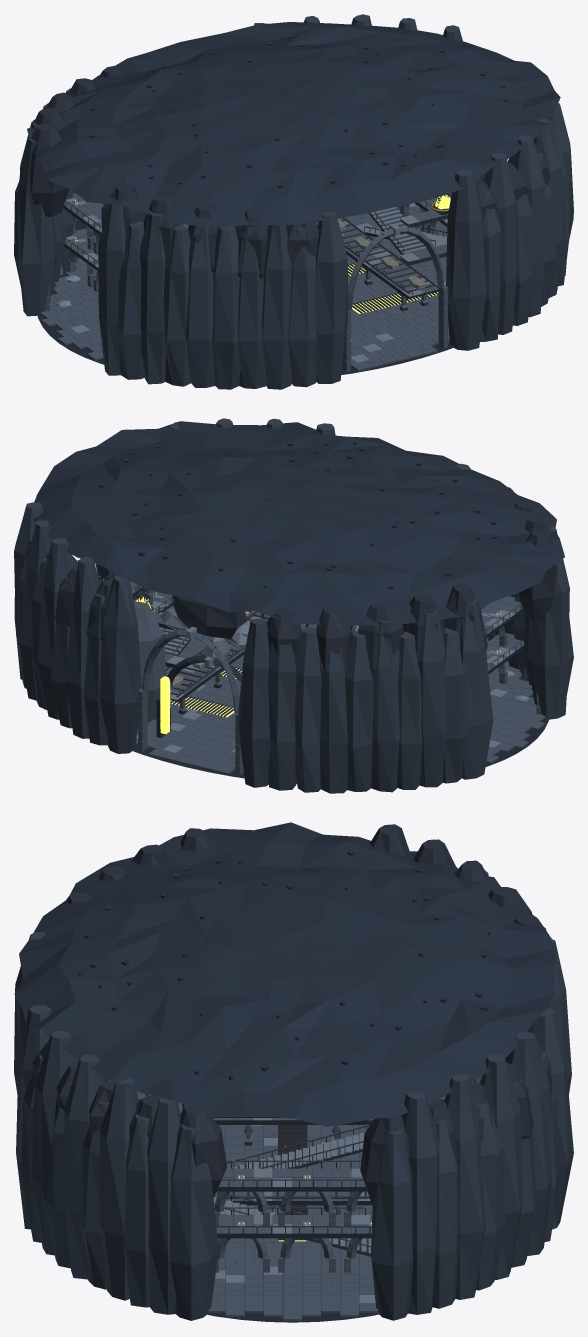
File: cellar-room-04.glb
3 renders of one model, top to bottom at view 1: azimuth 30°, elevation 25°; view 2: azimuth 150°, elevation 25°; view 3: azimuth 270°, elevation 25°, orthographic. The views are drawn at different scales.
Visible parts, largest first — view 1: Cellar 4 ceiling, Cellar 4 rock, Cellar 4 stone_dark, Cellar 4 stone_floor, Cellar 4 stone, Cellar 4 stone_light, Cellar 4 iron, Cellar 4 mortar, Cellar 4 fire, Cellar 4 stone_floor_light; view 2: Cellar 4 ceiling, Cellar 4 rock, Cellar 4 stone_dark, Cellar 4 stone_floor, Cellar 4 stone, Cellar 4 stone_light, Cellar 4 iron, Cellar 4 fire, Cellar 4 mortar, Cellar 4 stone_floor_light; view 3: Cellar 4 ceiling, Cellar 4 rock, Cellar 4 stone_dark, Cellar 4 stone_floor, Cellar 4 stone, Cellar 4 iron, Cellar 4 stone_light, Cellar 4 mortar, Cellar 4 stone_floor_light.
Boxes of the visible parts, box(x1,y1,x2,y2) form: Cellar 4 ceiling: box(27, 22, 560, 227); Cellar 4 rock: box(14, 14, 573, 389); Cellar 4 stone_dark: box(25, 65, 548, 310); Cellar 4 stone_floor: box(40, 203, 449, 371); Cellar 4 stone: box(44, 193, 451, 371); Cellar 4 stone_light: box(56, 197, 447, 307); Cellar 4 iron: box(65, 175, 484, 313); Cellar 4 mortar: box(37, 262, 454, 374); Cellar 4 fire: box(75, 195, 450, 313); Cellar 4 stone_floor_light: box(70, 203, 446, 362); Cellar 4 ceiling: box(33, 421, 564, 625); Cellar 4 rock: box(14, 418, 573, 793); Cellar 4 stone_dark: box(25, 486, 557, 737); Cellar 4 stone_floor: box(135, 611, 545, 782); Cellar 4 stone: box(112, 579, 541, 775); Cellar 4 stone_light: box(136, 595, 538, 740); Cellar 4 iron: box(101, 573, 523, 716); Cellar 4 fire: box(136, 593, 500, 734); Cellar 4 mortar: box(131, 616, 549, 783); Cellar 4 stone_floor_light: box(160, 625, 507, 752); Cellar 4 ceiling: box(14, 822, 556, 1126); Cellar 4 rock: box(14, 870, 573, 1320); Cellar 4 stone_dark: box(32, 824, 552, 1256); Cellar 4 stone_floor: box(137, 1091, 445, 1320); Cellar 4 stone: box(107, 1079, 479, 1272); Cellar 4 iron: box(138, 1099, 444, 1252); Cellar 4 stone_light: box(213, 1022, 534, 1253); Cellar 4 mortar: box(149, 1095, 380, 1322); Cellar 4 stone_floor_light: box(215, 1125, 375, 1302).
Size of the model in its own units: 95.12 by 35.82 by 76.35.
